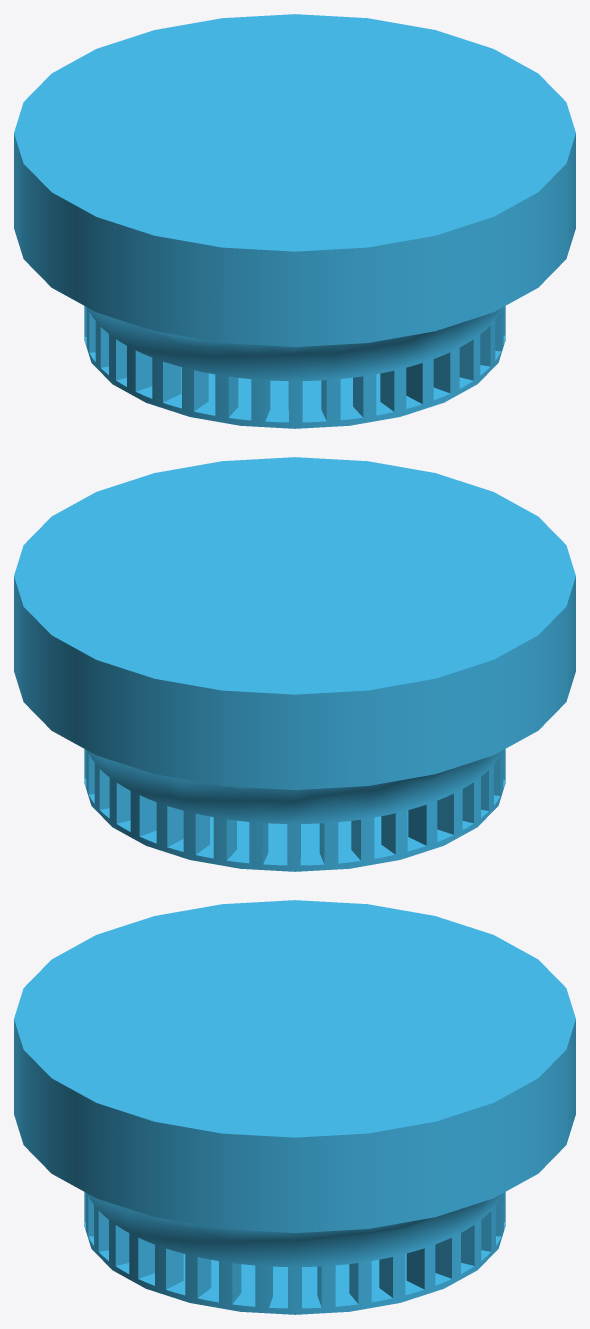
The picture shows the model from 3 angles, top to bottom: view 1: azimuth 30°, elevation 25°; view 2: azimuth 150°, elevation 25°; view 3: azimuth 270°, elevation 25°; orthographic projection.
Bounding box in the file's own units: 132 × 65.84 × 132.
